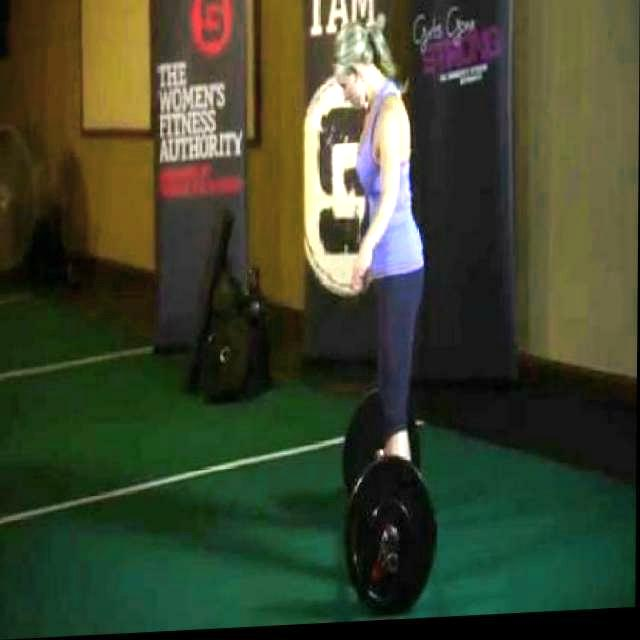barbell: (335, 452, 445, 627)
